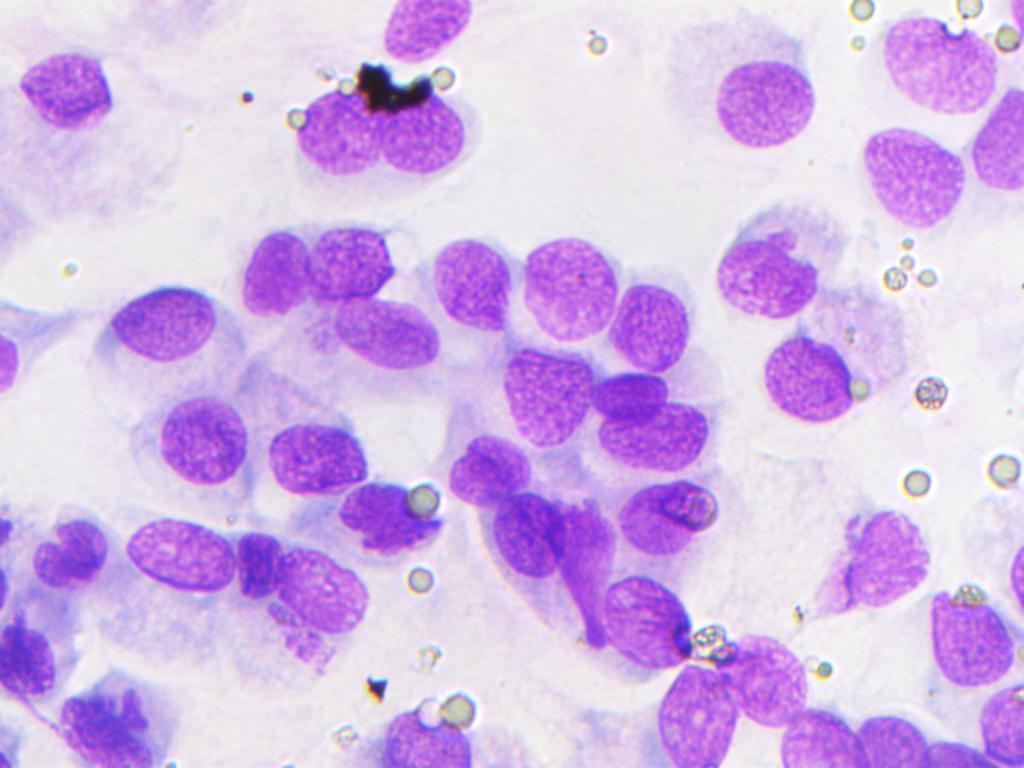artifact: (351, 54, 438, 113)
epithelial: (645, 10, 819, 164), (107, 391, 259, 499), (843, 121, 971, 240), (859, 9, 998, 112), (508, 218, 617, 344), (54, 675, 190, 768), (319, 294, 439, 392), (599, 560, 698, 677), (491, 338, 597, 447), (710, 618, 813, 728), (828, 505, 936, 609), (12, 499, 119, 602), (274, 543, 381, 646), (645, 652, 740, 768), (603, 469, 721, 559), (433, 215, 515, 343), (470, 487, 574, 584), (263, 411, 375, 500), (920, 586, 1016, 689), (382, 83, 486, 176), (297, 72, 384, 183), (594, 401, 723, 474), (18, 47, 122, 136), (435, 421, 540, 507), (336, 481, 448, 553), (229, 220, 307, 322), (1, 592, 74, 697), (611, 279, 696, 369), (968, 75, 1024, 204), (774, 698, 875, 768), (377, 2, 483, 64), (377, 706, 477, 768), (966, 670, 1024, 768), (234, 513, 292, 608), (850, 704, 931, 768), (582, 368, 670, 420), (920, 715, 994, 768)
erythrocyte: (871, 224, 954, 306), (409, 36, 474, 114), (875, 440, 946, 504), (395, 459, 453, 535), (386, 551, 467, 601), (563, 8, 626, 72), (903, 358, 960, 422), (408, 687, 485, 729), (985, 426, 1024, 500), (304, 58, 360, 98), (986, 19, 1024, 63), (843, 28, 873, 60), (276, 106, 308, 131), (60, 258, 83, 281)
goblet_cell: (107, 503, 235, 676), (762, 319, 917, 438), (713, 191, 846, 322), (94, 282, 246, 390), (304, 216, 435, 297)
